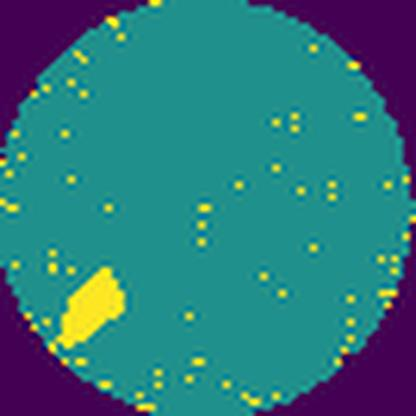Loc: (51, 264, 126, 350)
